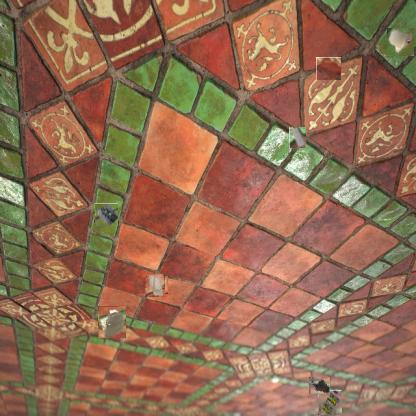dirty: (98, 306, 126, 338), (388, 29, 416, 56), (318, 390, 342, 415), (94, 203, 118, 226), (145, 275, 167, 295), (289, 127, 306, 150)
liquid: (316, 57, 341, 80), (308, 376, 330, 394)
